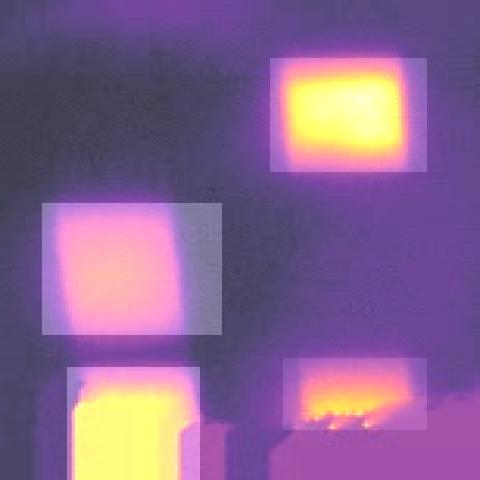fault: (42, 203, 222, 335), (270, 58, 427, 172), (67, 367, 200, 480), (283, 358, 427, 430)
